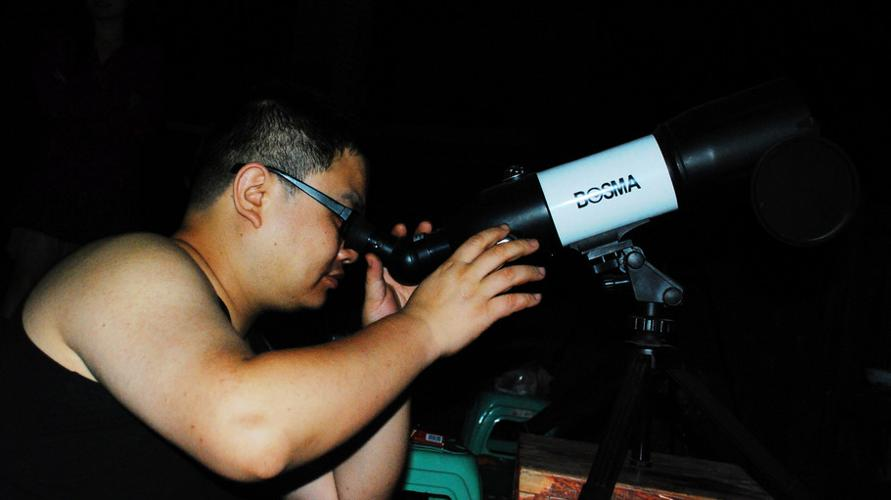person: (4, 96, 547, 500)
